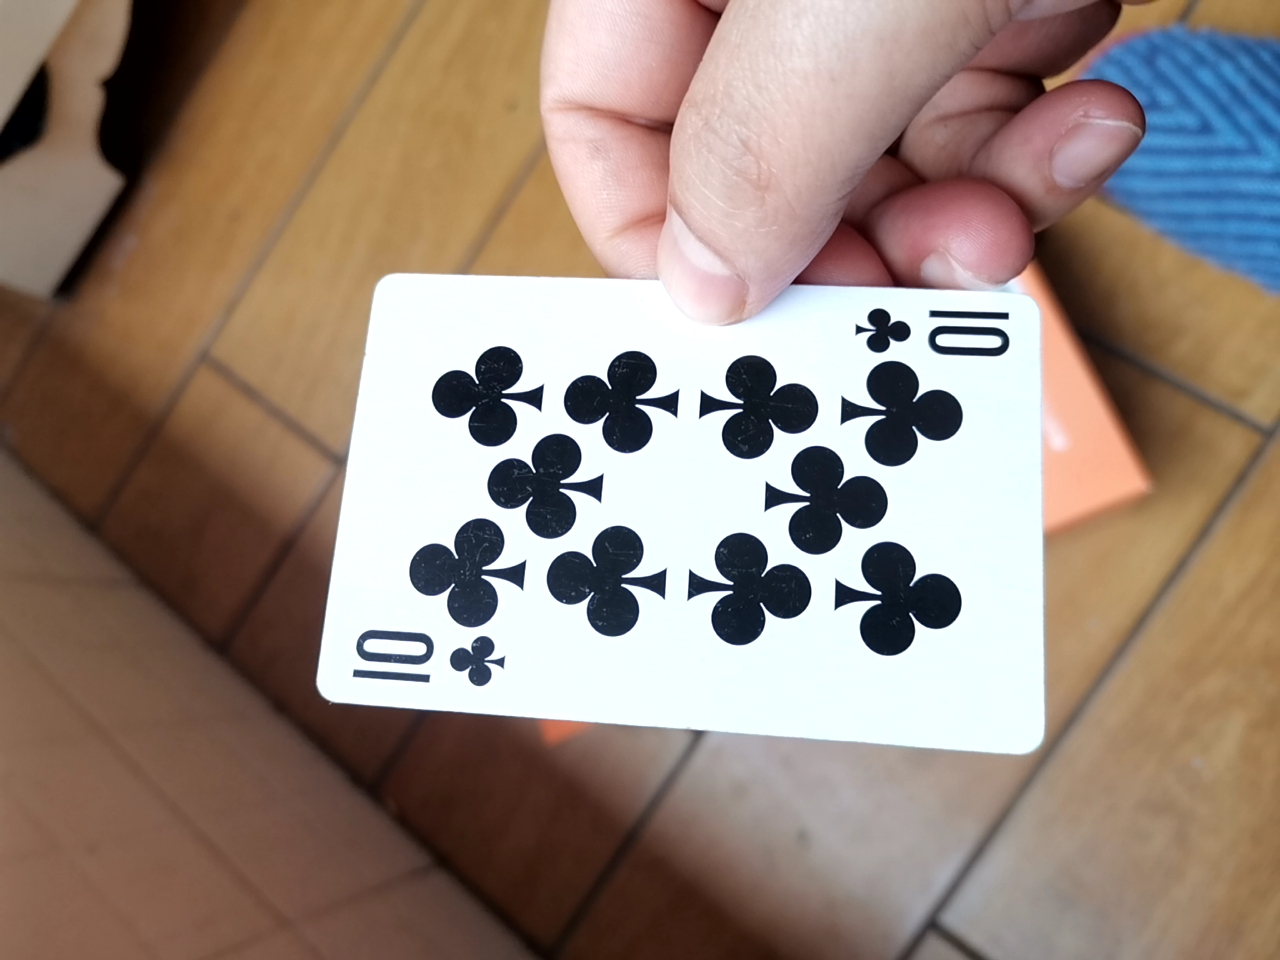mh 10: (306, 276, 1038, 757)
